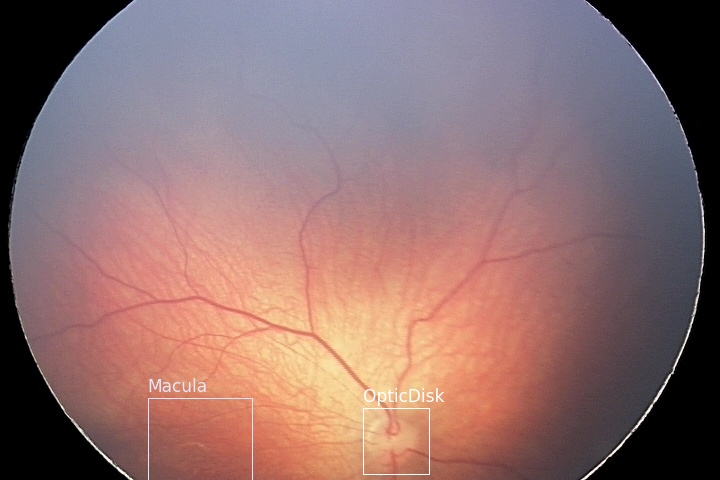Macula: (147, 397, 251, 480)
OpticDisk: (362, 407, 428, 473)
